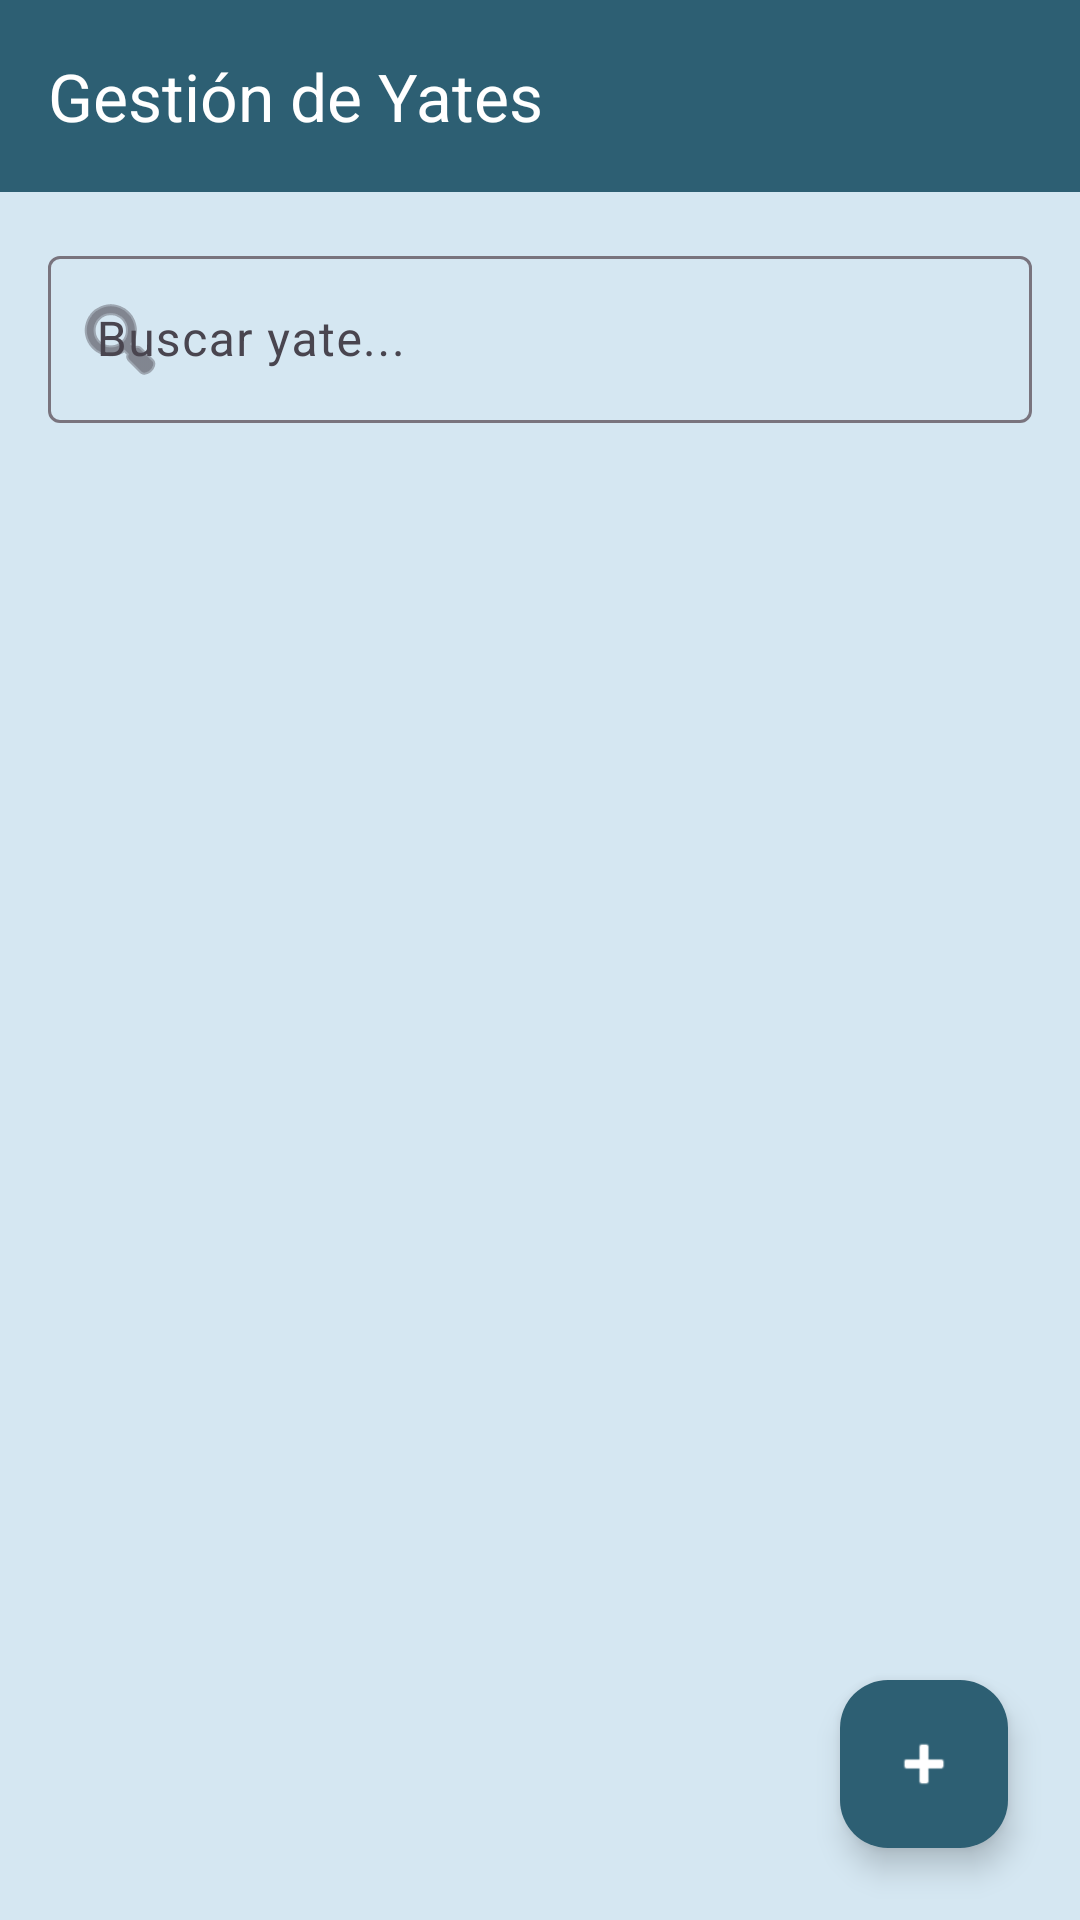

Icons on this 1080 x 1920 Android screen, each with its box as bbox=(x1, y1, x2, y2):
Agregar yate: bbox=(840, 1680, 1008, 1848)
